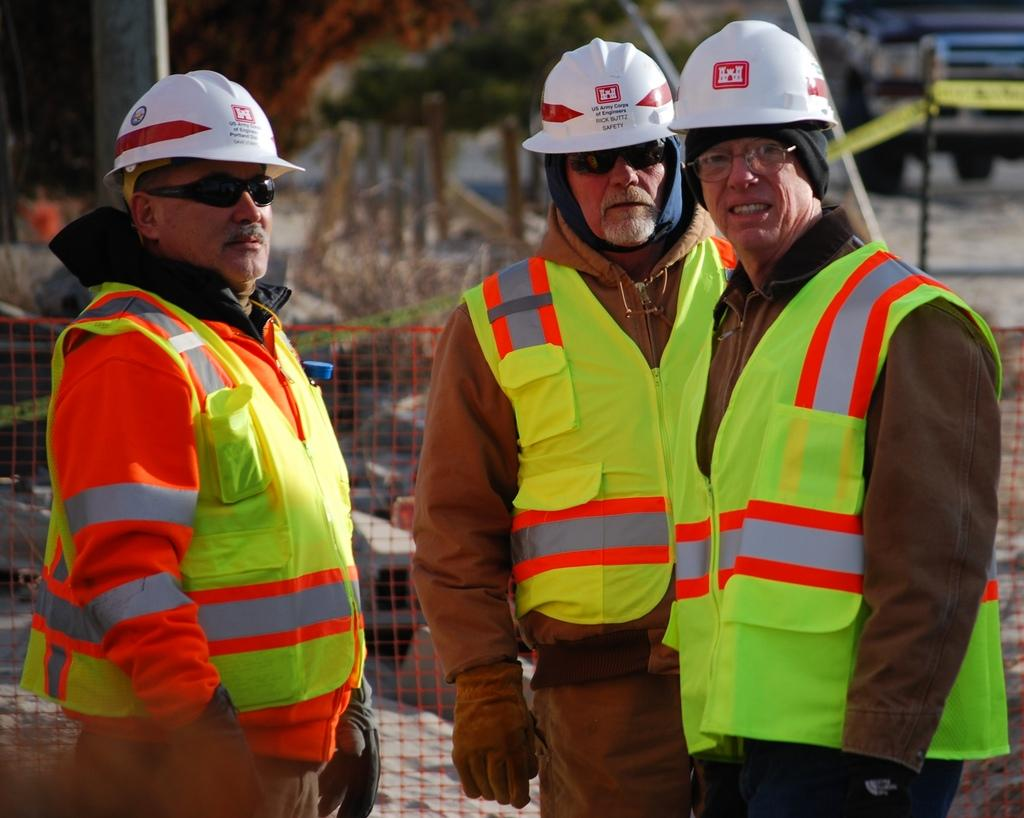helmet: (102, 69, 306, 275), (667, 20, 838, 245), (521, 37, 693, 242)
